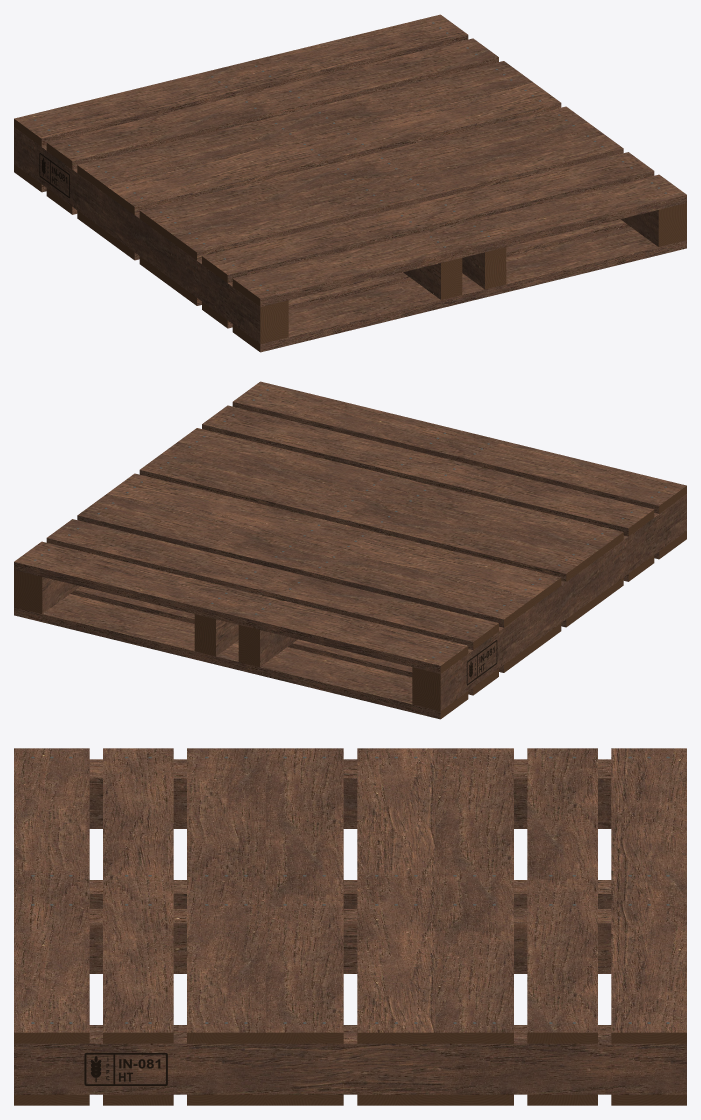
The model's file is hw06-hardwood-pallet-1200x1200-full-base.glb.
3 views of the same model, one above another, from view 1: azimuth 30°, elevation 25°; view 2: azimuth 150°, elevation 25°; view 3: azimuth 270°, elevation 25° (orthographic). The views are drawn at different scales.
Parts seen in each view (by area): view 1: hw06-hardwood-pallet-1200x1200-full-base; view 2: hw06-hardwood-pallet-1200x1200-full-base; view 3: hw06-hardwood-pallet-1200x1200-full-base.
Part boxes in pixels (x1=…): hw06-hardwood-pallet-1200x1200-full-base: x1=14, y1=14, x2=686, y2=352; hw06-hardwood-pallet-1200x1200-full-base: x1=14, y1=381, x2=686, y2=719; hw06-hardwood-pallet-1200x1200-full-base: x1=14, y1=748, x2=686, y2=1105.
Bounding box in the file's own units: 1.2 × 0.145 × 1.2.
Materials: 4 (3 with a texture image).
